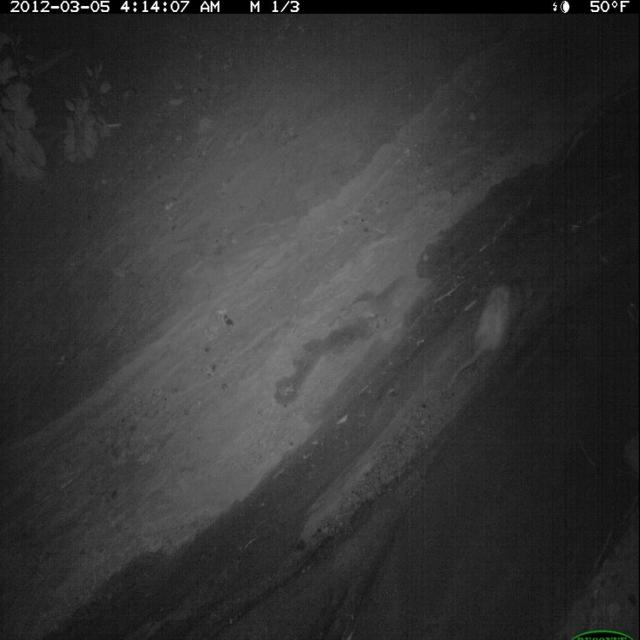opossum: (445, 276, 537, 388)
